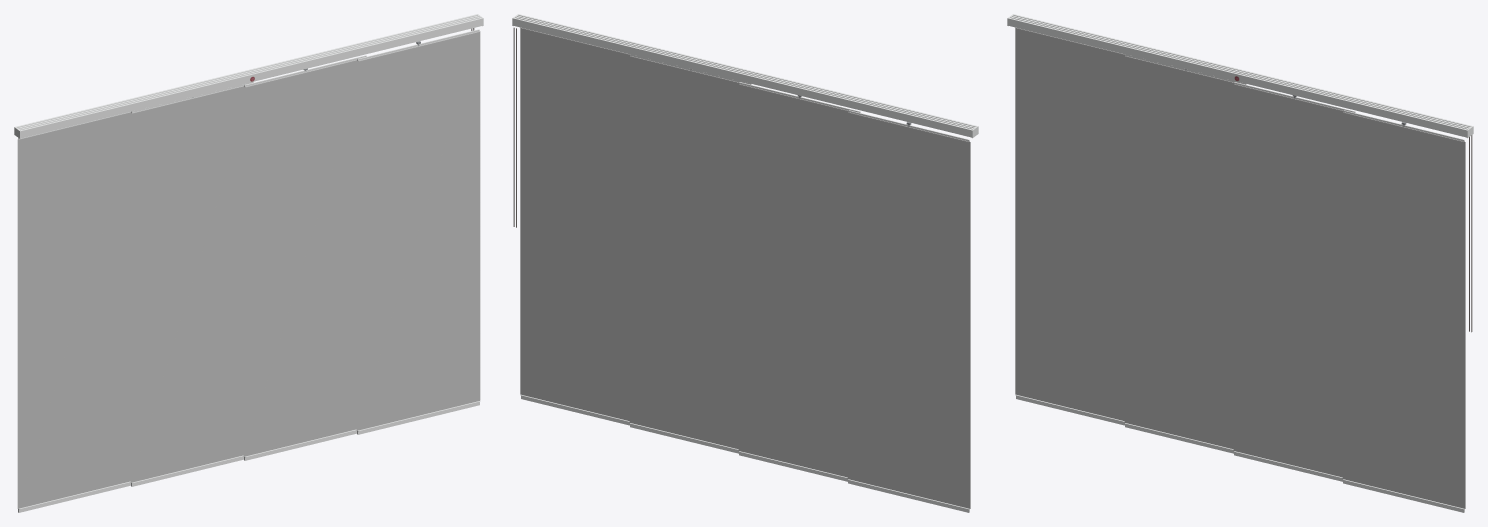
The model's file is after-panel-white-closed.glb.
3 views of the same model, side by side, from view 1: azimuth 30°, elevation 25°; view 2: azimuth 150°, elevation 25°; view 3: azimuth 330°, elevation 25° (orthographic).
Parts seen in each view (by area): view 1: PANEL_TELO_4, PANEL_TELO_1, PANEL_TELO_2, PANEL_TELO_3, PANEL_RAIL_PROFILE_WAY_4, PANEL_RAIL_PROFILE_WAY_3, PANEL_RAIL_PROFILE_WAY_1, PANEL_RAIL_PROFILE_WAY_2, PANEL_BOTTOM_WEIGHT_4, PANEL_BOTTOM_WEIGHT_1, PANEL_BOTTOM_WEIGHT_2, PANEL_BOTTOM_WEIGHT_3; view 2: PANEL_TELO_1, PANEL_TELO_4, PANEL_TELO_3, PANEL_TELO_2, PANEL_RAIL_PROFILE_WAY_1, PANEL_RAIL_PROFILE_WAY_2, PANEL_RAIL_PROFILE_WAY_4, PANEL_RAIL_PROFILE_WAY_3, PANEL_BOTTOM_WEIGHT_1, PANEL_BOTTOM_WEIGHT_3, PANEL_BOTTOM_WEIGHT_2, PANEL_BOTTOM_WEIGHT_4; view 3: PANEL_TELO_4, PANEL_TELO_1, PANEL_TELO_2, PANEL_TELO_3, PANEL_RAIL_PROFILE_WAY_4, PANEL_RAIL_PROFILE_WAY_3, PANEL_RAIL_PROFILE_WAY_1, PANEL_RAIL_PROFILE_WAY_2, PANEL_BOTTOM_WEIGHT_4, PANEL_BOTTOM_WEIGHT_2, PANEL_BOTTOM_WEIGHT_1, PANEL_BOTTOM_WEIGHT_3.
Part boxes in pixels (x1=…): PANEL_TELO_4: x1=356, y1=31, x2=480, y2=430; PANEL_TELO_1: x1=17, y1=112, x2=131, y2=508; PANEL_TELO_2: x1=130, y1=86, x2=244, y2=482; PANEL_TELO_3: x1=243, y1=60, x2=357, y2=456; PANEL_RAIL_PROFILE_WAY_4: x1=21, y1=18, x2=482, y2=138; PANEL_RAIL_PROFILE_WAY_3: x1=19, y1=16, x2=480, y2=130; PANEL_RAIL_PROFILE_WAY_1: x1=16, y1=14, x2=477, y2=127; PANEL_RAIL_PROFILE_WAY_2: x1=17, y1=15, x2=478, y2=128; PANEL_BOTTOM_WEIGHT_4: x1=357, y1=401, x2=480, y2=434; PANEL_BOTTOM_WEIGHT_1: x1=18, y1=481, x2=130, y2=512; PANEL_BOTTOM_WEIGHT_2: x1=131, y1=455, x2=243, y2=486; PANEL_BOTTOM_WEIGHT_3: x1=244, y1=429, x2=356, y2=460; PANEL_TELO_1: x1=847, y1=112, x2=970, y2=508; PANEL_TELO_4: x1=520, y1=27, x2=630, y2=420; PANEL_TELO_3: x1=629, y1=56, x2=739, y2=449; PANEL_TELO_2: x1=738, y1=84, x2=848, y2=477; PANEL_RAIL_PROFILE_WAY_1: x1=513, y1=18, x2=972, y2=137; PANEL_RAIL_PROFILE_WAY_2: x1=515, y1=16, x2=973, y2=129; PANEL_RAIL_PROFILE_WAY_4: x1=518, y1=14, x2=976, y2=126; PANEL_RAIL_PROFILE_WAY_3: x1=517, y1=15, x2=975, y2=128; PANEL_BOTTOM_WEIGHT_1: x1=848, y1=479, x2=969, y2=512; PANEL_BOTTOM_WEIGHT_3: x1=629, y1=423, x2=738, y2=453; PANEL_BOTTOM_WEIGHT_2: x1=739, y1=451, x2=847, y2=481; PANEL_BOTTOM_WEIGHT_4: x1=520, y1=395, x2=629, y2=425; PANEL_TELO_4: x1=1342, y1=112, x2=1465, y2=508; PANEL_TELO_1: x1=1015, y1=27, x2=1125, y2=420; PANEL_TELO_2: x1=1124, y1=56, x2=1234, y2=449; PANEL_TELO_3: x1=1233, y1=84, x2=1343, y2=477; PANEL_RAIL_PROFILE_WAY_4: x1=1008, y1=18, x2=1467, y2=137; PANEL_RAIL_PROFILE_WAY_3: x1=1010, y1=16, x2=1468, y2=129; PANEL_RAIL_PROFILE_WAY_1: x1=1013, y1=14, x2=1471, y2=126; PANEL_RAIL_PROFILE_WAY_2: x1=1012, y1=15, x2=1470, y2=128; PANEL_BOTTOM_WEIGHT_4: x1=1343, y1=479, x2=1464, y2=512; PANEL_BOTTOM_WEIGHT_2: x1=1124, y1=423, x2=1233, y2=453; PANEL_BOTTOM_WEIGHT_1: x1=1015, y1=395, x2=1124, y2=425; PANEL_BOTTOM_WEIGHT_3: x1=1234, y1=451, x2=1342, y2=481.
Bounding box in the file's own units: 3.02 × 2.4 × 0.088.
5 materials, 2 textured.
